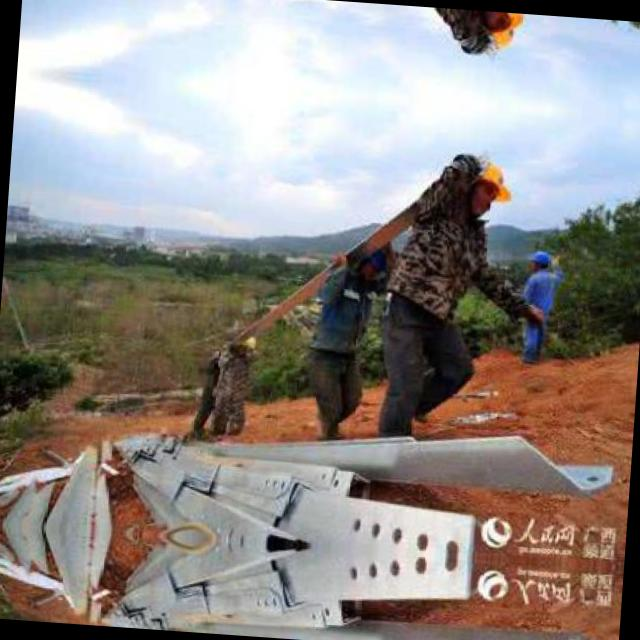helmet: (465, 156, 509, 214), (476, 10, 520, 54), (528, 244, 550, 272)
